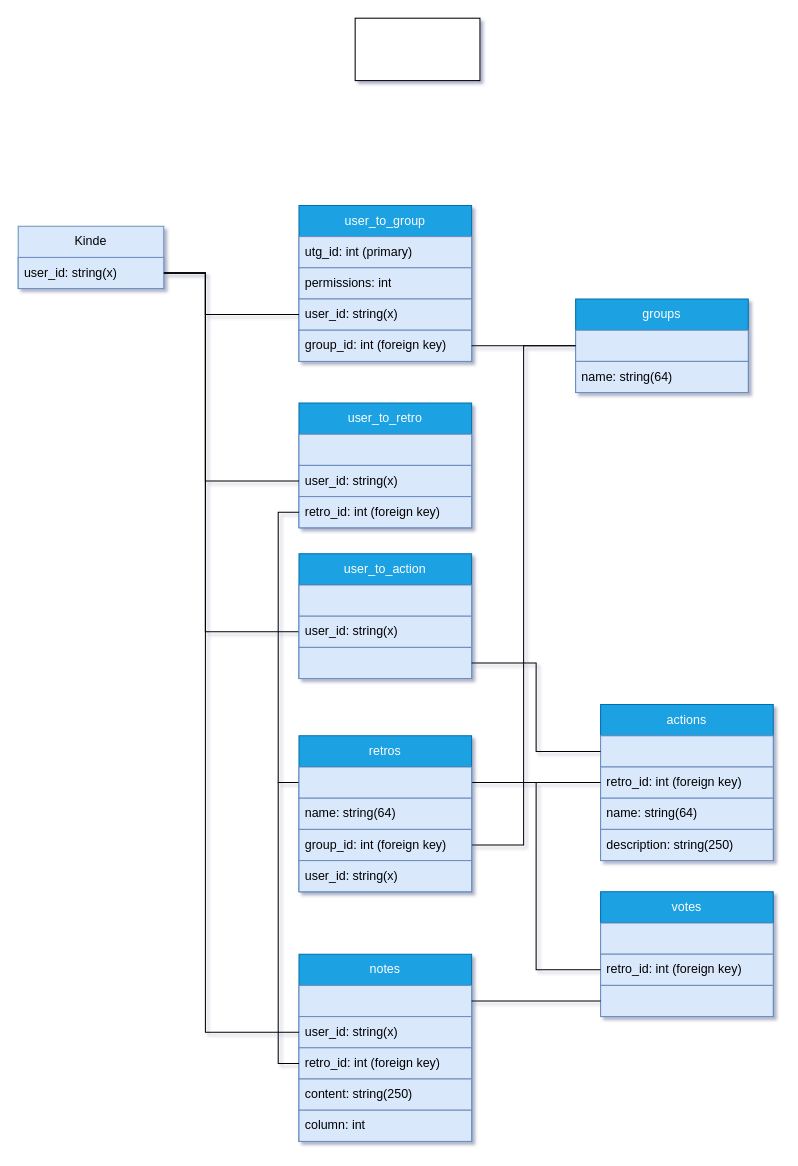
Image size: 798x1166. Some labels were removed from this diagram. Each missing label, with the centre of its shape:
action_id: int (foreign key): (385,662)
action_id: int (primary key): (686,751)
Databáze: (417,49)
group_id: int (primary key): (661,345)
note_id: int (foreign key): (686,1000)
note_id: int (primary key): (385,1000)
retro_id: int (primary key): (385,782)
uta_id: int (primary key): (385,600)
utr_id: int (primary key): (385,449)
vote_id: int (primary key): (686,938)
